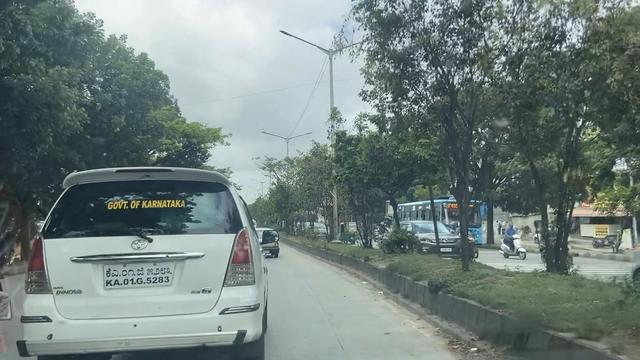LMV: (497, 218, 530, 262)
